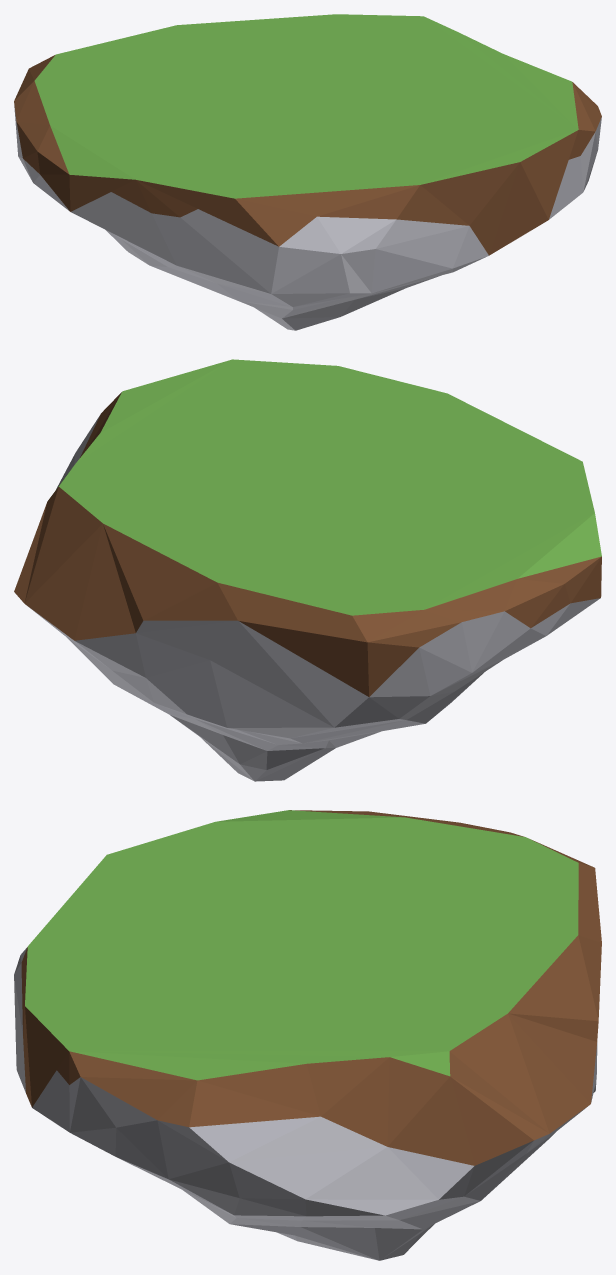
Rendered from Floating_Rock_Model_2.fbx.
The picture shows the model from 3 angles, top to bottom: view 1: azimuth 30°, elevation 25°; view 2: azimuth 150°, elevation 25°; view 3: azimuth 270°, elevation 25°; orthographic projection. The views are drawn at different scales.
Visible parts, largest first — view 1: Floating_Rock_2; view 2: Floating_Rock_2; view 3: Floating_Rock_2.
Boxes of the visible parts, x1,y1,x2,y2 form: Floating_Rock_2: [14, 14, 601, 330]; Floating_Rock_2: [14, 359, 601, 781]; Floating_Rock_2: [14, 810, 601, 1260].
Bounding box in the file's own units: 258 × 121 × 216.
